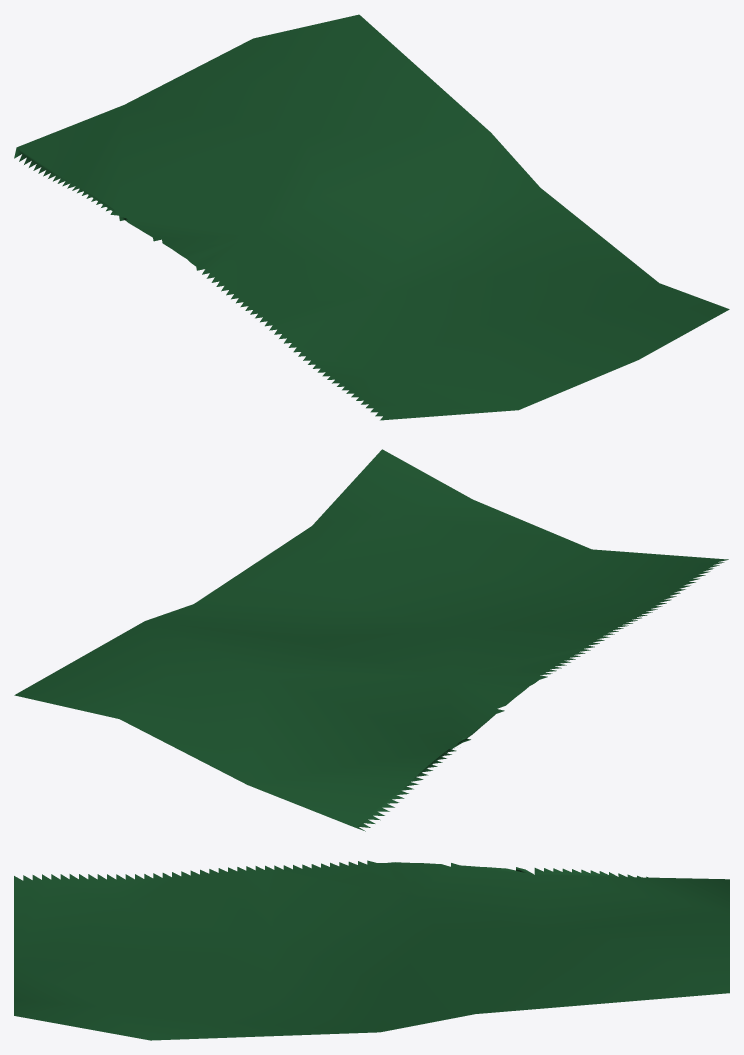
File: payo_land_xm5_ym4_lod2.glb
3 renders of one model, top to bottom at view 1: azimuth 30°, elevation 25°; view 2: azimuth 150°, elevation 25°; view 3: azimuth 270°, elevation 25°, orthographic. The views are drawn at different scales.
Parts seen in each view (by area): view 1: payo_land_xm5_ym4; view 2: payo_land_xm5_ym4; view 3: payo_land_xm5_ym4.
Part boxes in pixels (left/top/right/bottom): payo_land_xm5_ym4: left=14, top=14, right=729, bottom=420; payo_land_xm5_ym4: left=14, top=449, right=728, bottom=831; payo_land_xm5_ym4: left=14, top=860, right=729, bottom=1040.
Size of the model in its own units: 126 by 26.24 by 231.
